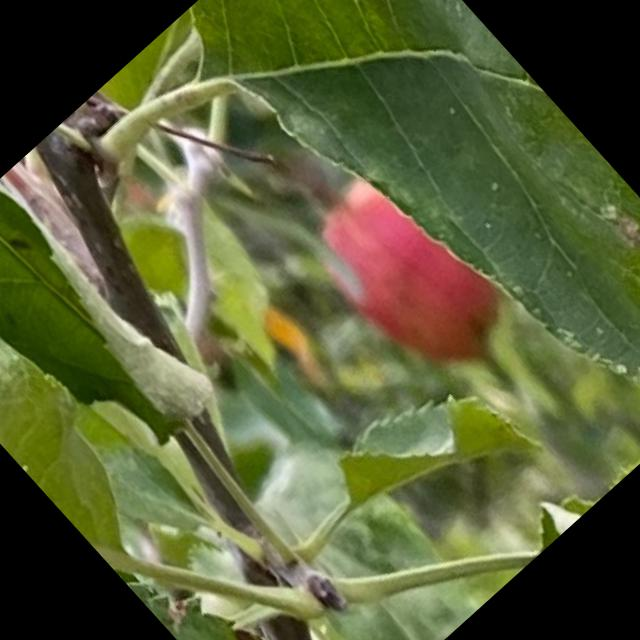Apples: (294, 160, 518, 388)
